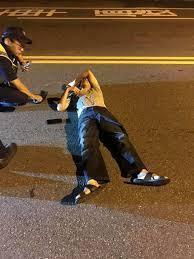Fall-Detected: (44, 59, 170, 202)
